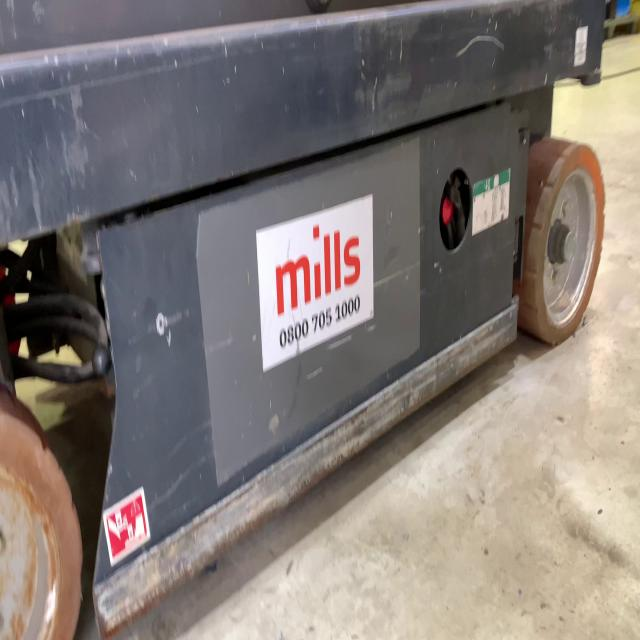Adesivos: (255, 189, 376, 376)
